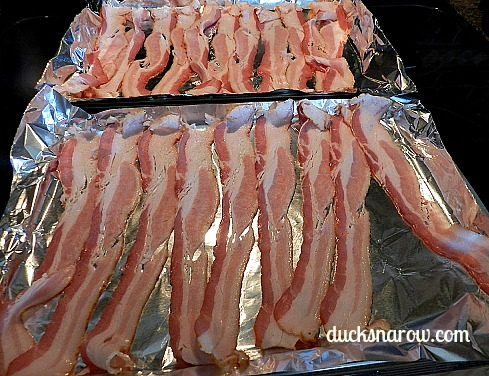bacon: (40, 121, 425, 326)
